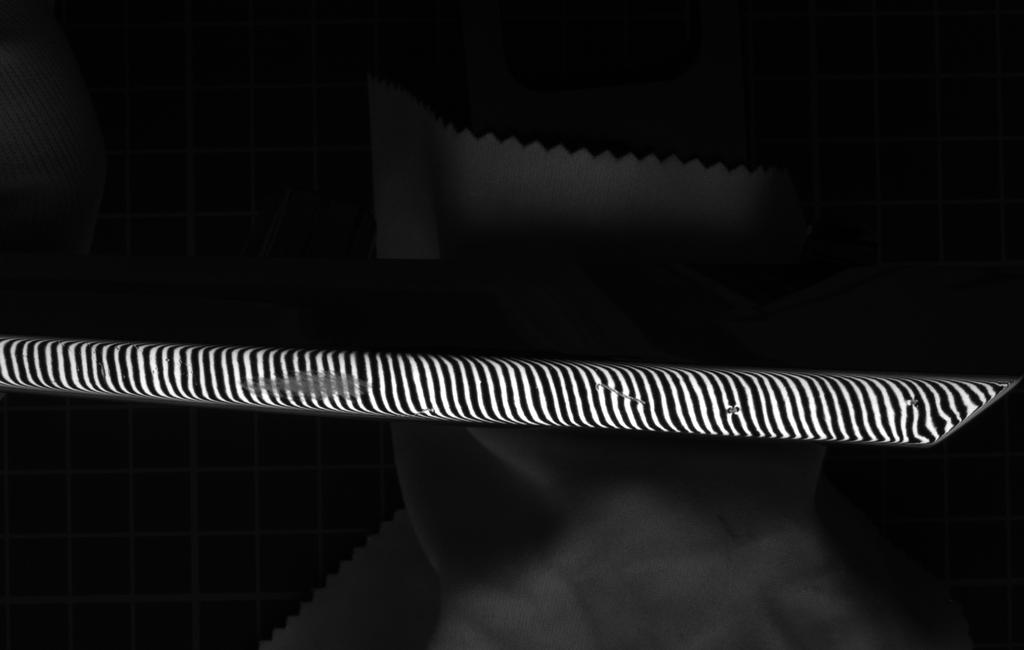Pierced: (719, 400, 747, 421), (902, 392, 924, 413)
Pitting: (224, 362, 385, 404)
Scratch: (591, 377, 660, 414)
